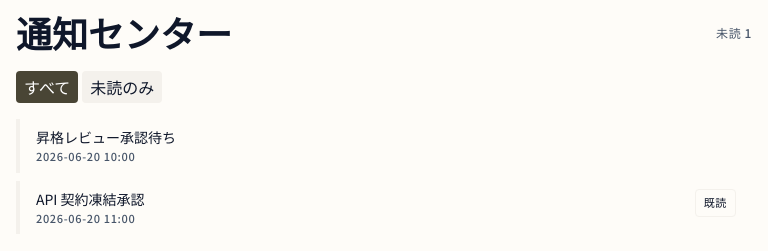
Test: T-UC-36 NotificationsContainer › honors localStorage-read items and the unread filter
Expected: the link "API 契約凍結承認" is shown, [36, 188, 145, 210]
Click the tab "未読のみ": (122, 87) [82, 71, 162, 103]
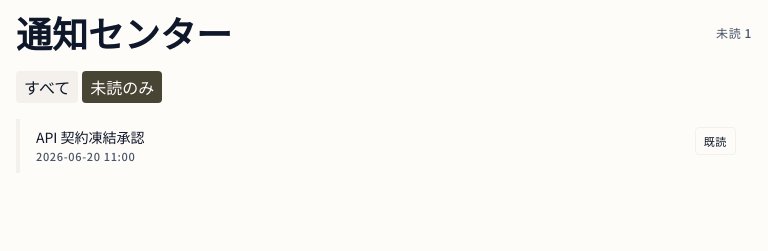
Expected: the link "API 契約凍結承認" is shown, [36, 127, 145, 148]
Now the link "昇格レビュー承認待ち" is gone
